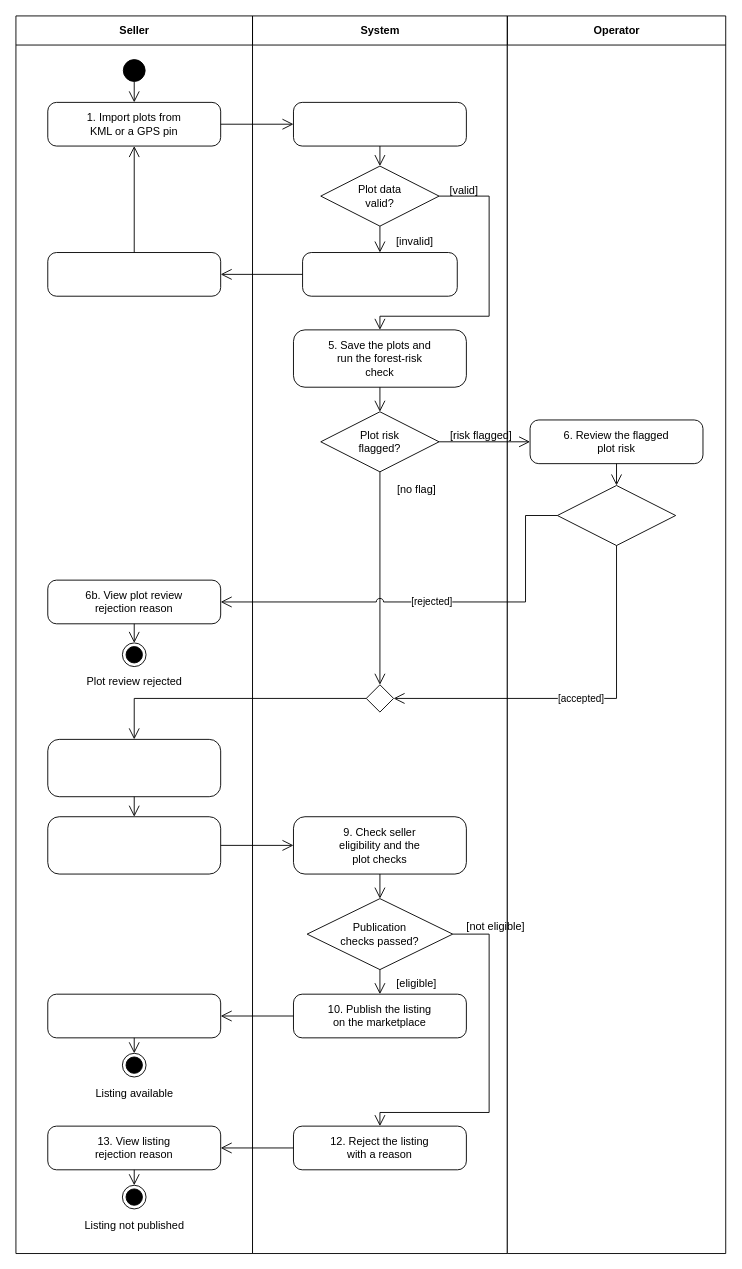
Some shapes in this 742 by 1269 pixel diagram are drawn without their labels. Each missing label, with the centre of its shape:
11. View the published listing: point 134,1015
2. Check the file and the plot geometry: point 379,123
3. Show the errors per plot: point 379,274
4. Fix the plots and import them again: point 134,274
7. Create a product with its category: point 134,767
8. Create a listing with quantity, quality and plots: point 134,845
Review accepted?: point 616,515
